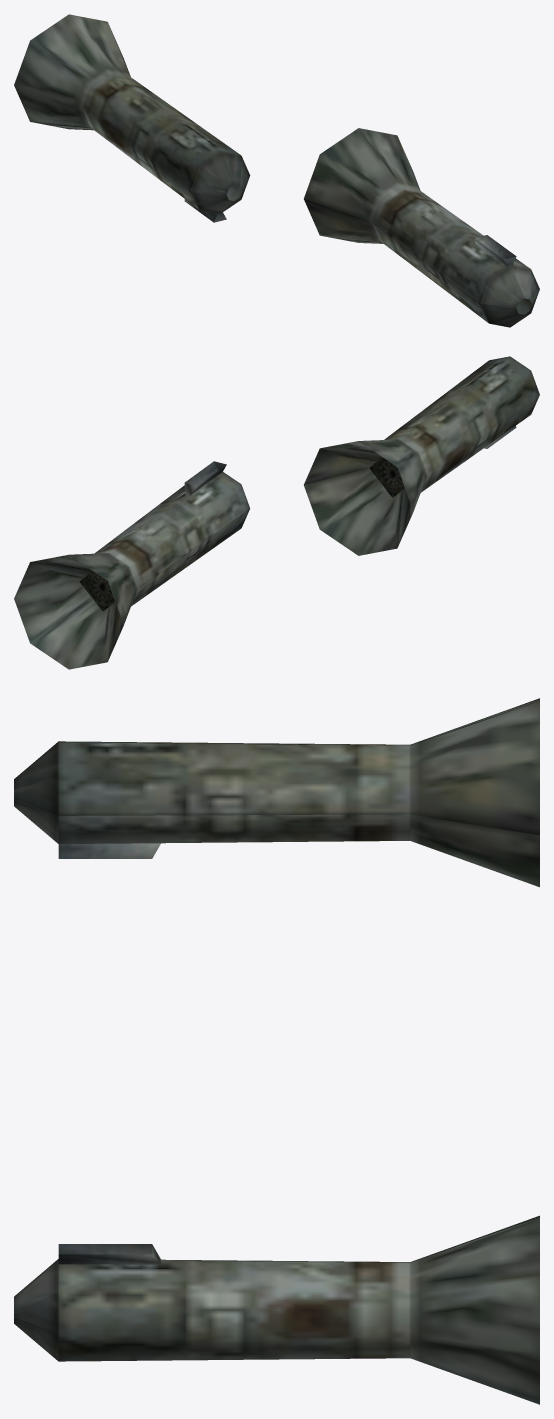
File: xwing_thruster_pos_s02_l1.fbx
3 renders of one model, top to bottom at view 1: azimuth 30°, elevation 25°; view 2: azimuth 150°, elevation 25°; view 3: azimuth 270°, elevation 25°, orthographic. The views are drawn at different scales.
Visible parts, largest first — view 1: mesh_node; view 2: mesh_node; view 3: mesh_node.
Part boxes in pixels (left/top/right/bottom): mesh_node: left=14, top=14, right=539, bottom=327; mesh_node: left=14, top=356, right=539, bottom=669; mesh_node: left=14, top=698, right=539, bottom=1404.
Bounding box in the file's own units: 4.81 × 3.45 × 3.46.
